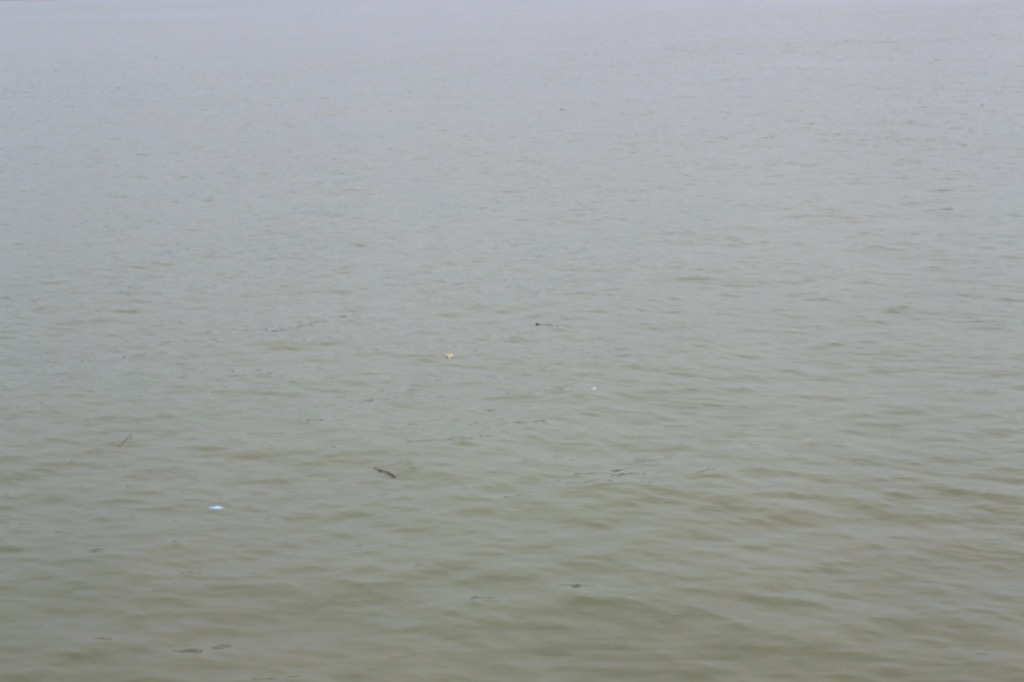organic: (109, 428, 148, 456), (529, 312, 563, 337), (369, 461, 402, 485)
plastic: (203, 501, 227, 515), (587, 380, 605, 397), (441, 346, 457, 365)
